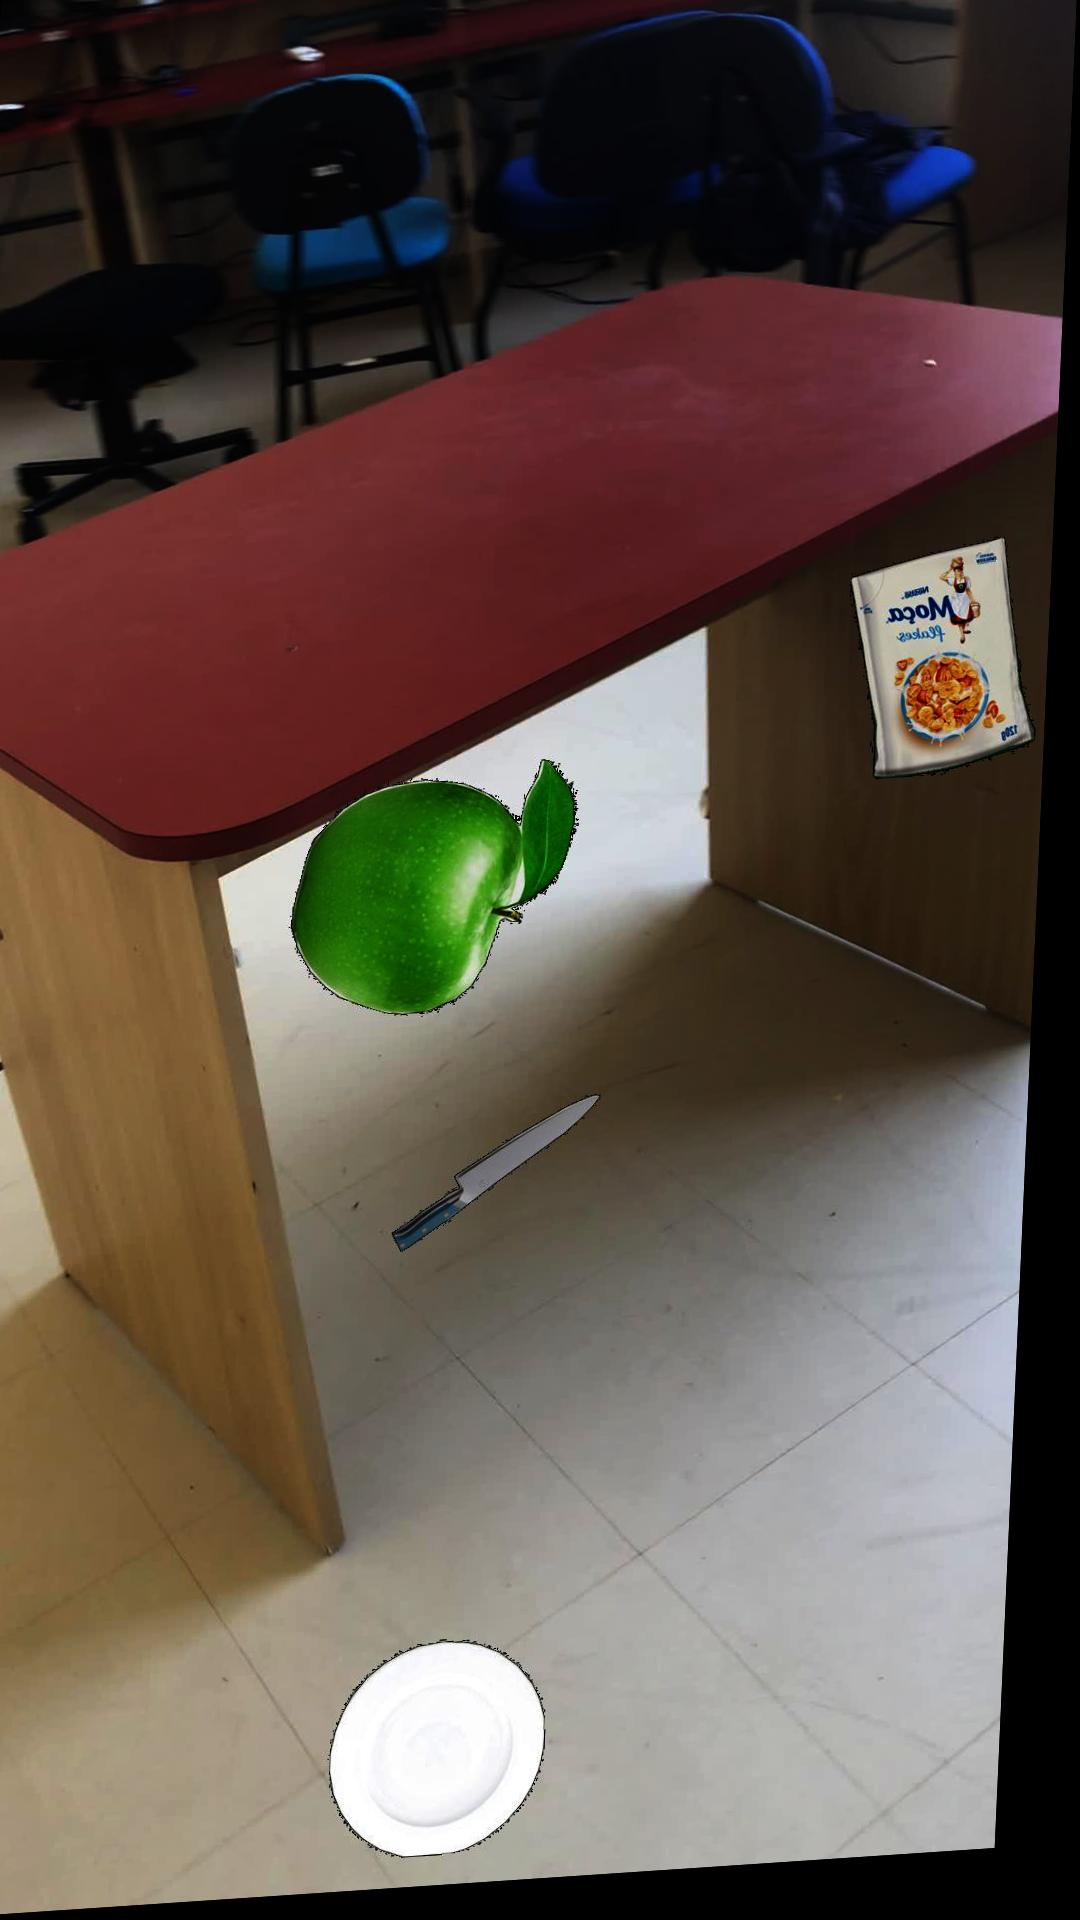corn flakes: (855, 550, 1040, 790)
green apple: (298, 766, 584, 1019)
knife: (401, 1101, 609, 1255)
plate: (343, 1646, 559, 1862)
